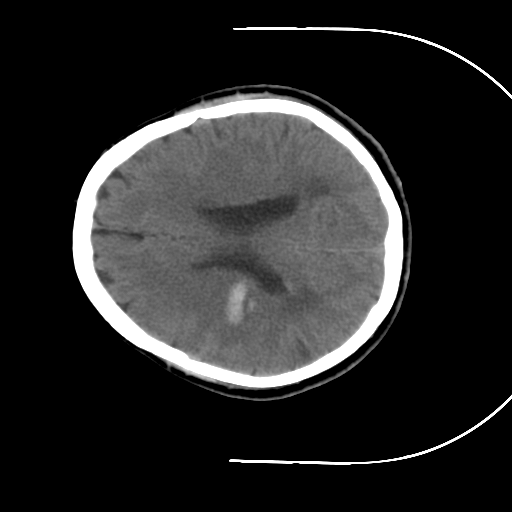a: (204, 253, 276, 356)
